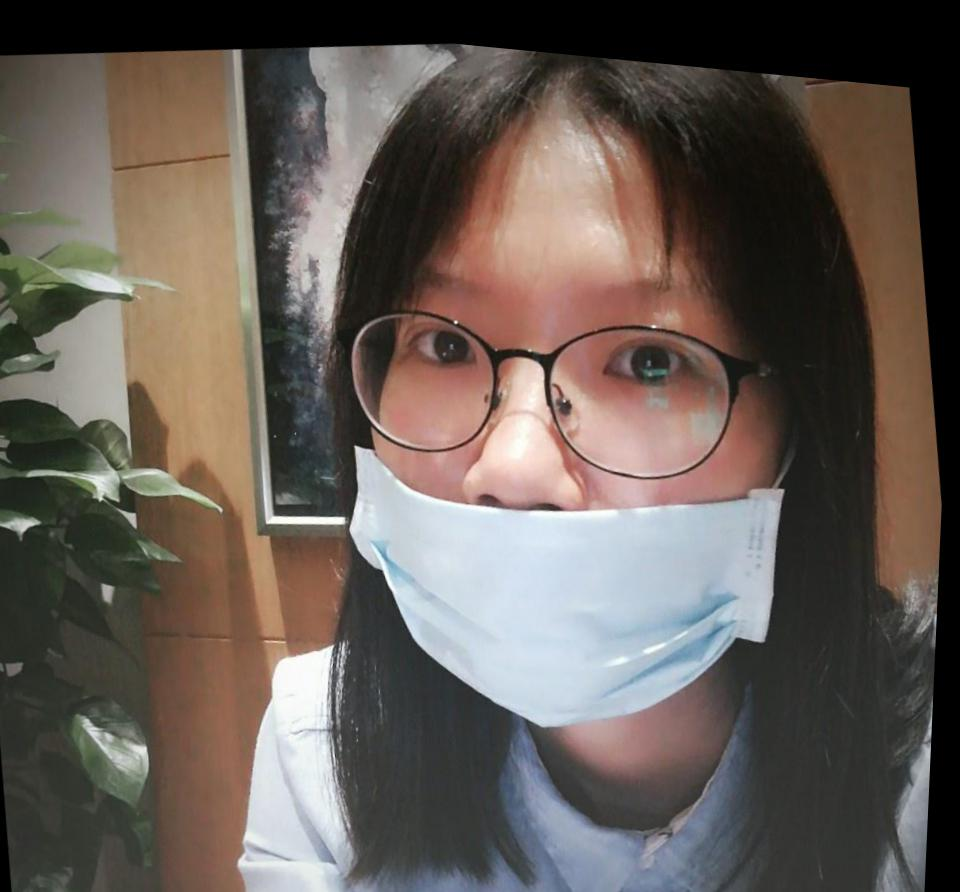WRONG: (330, 171, 862, 756)
